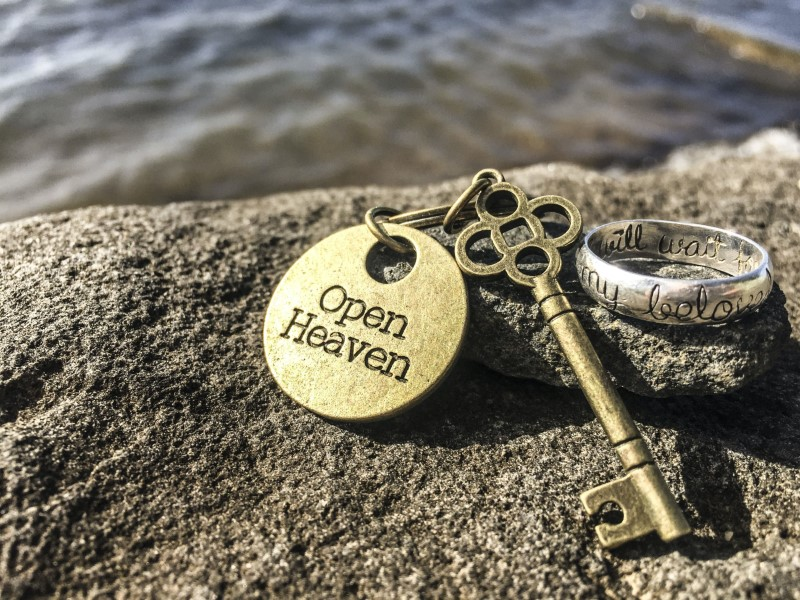key: (453, 170, 693, 553)
